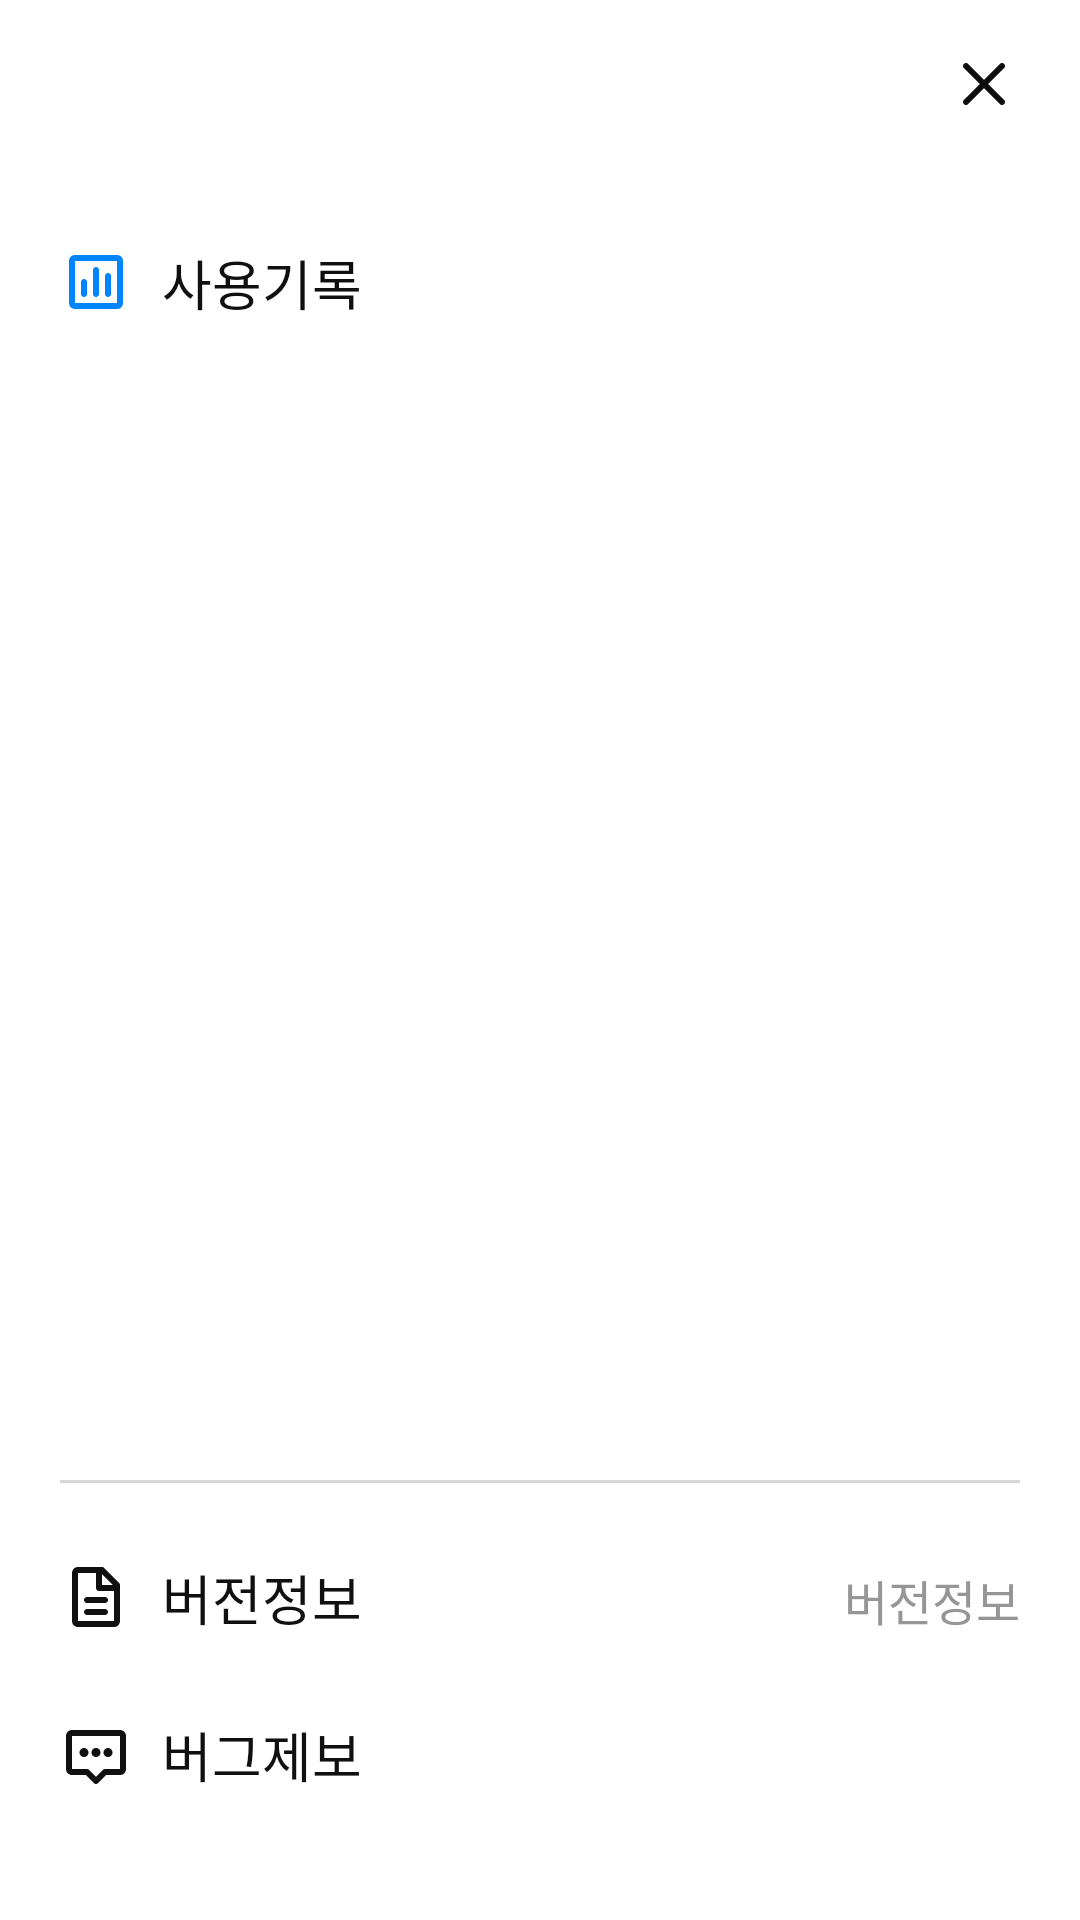

Screen size 1080 x 1920. Icon name, then its box in pixels as (x1, y1, x2, y2):
close: (963, 63, 1005, 105)
